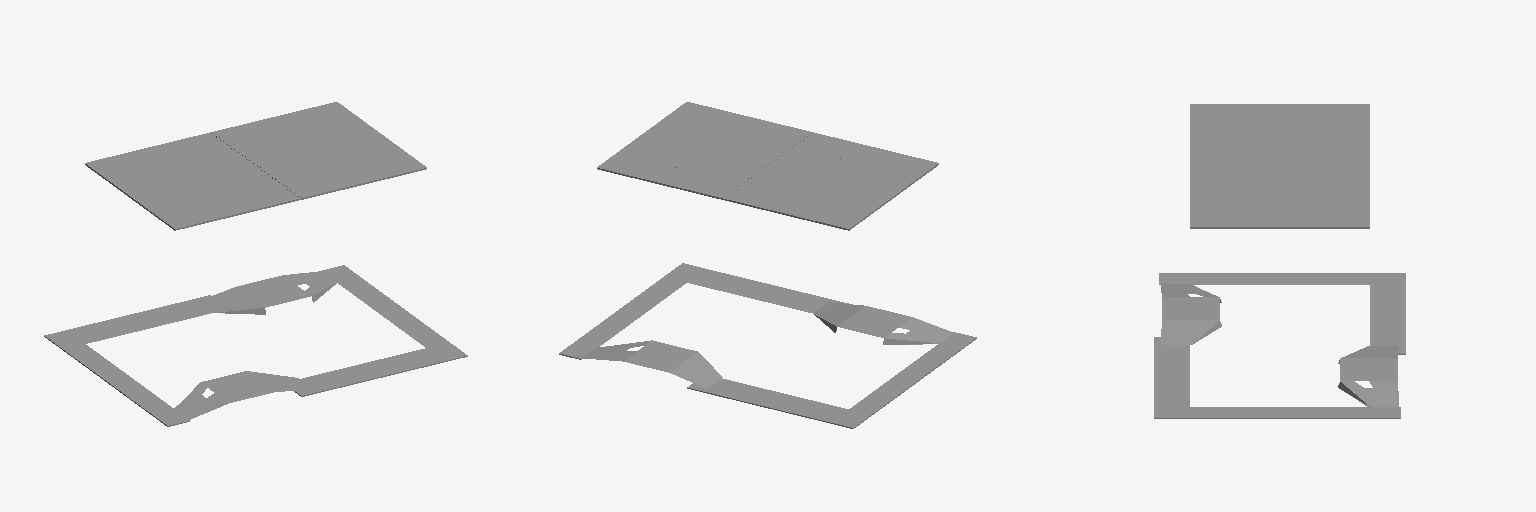
Rendered from top.obj.
3 views of the same model, side by side, from view 1: azimuth 30°, elevation 25°; view 2: azimuth 150°, elevation 25°; view 3: azimuth 270°, elevation 25° (orthographic).
Parts seen in each view (by area): view 1: building2_top_Cube.107; view 2: building2_top_Cube.107; view 3: building2_top_Cube.107.
Boxes of the visible parts, x1=… form: building2_top_Cube.107: x1=44, y1=102, x2=467, y2=426; building2_top_Cube.107: x1=559, y1=102, x2=976, y2=428; building2_top_Cube.107: x1=1154, y1=104, x2=1405, y2=418.
Size of the model in its own units: 18.47 by 10.77 by 13.61.